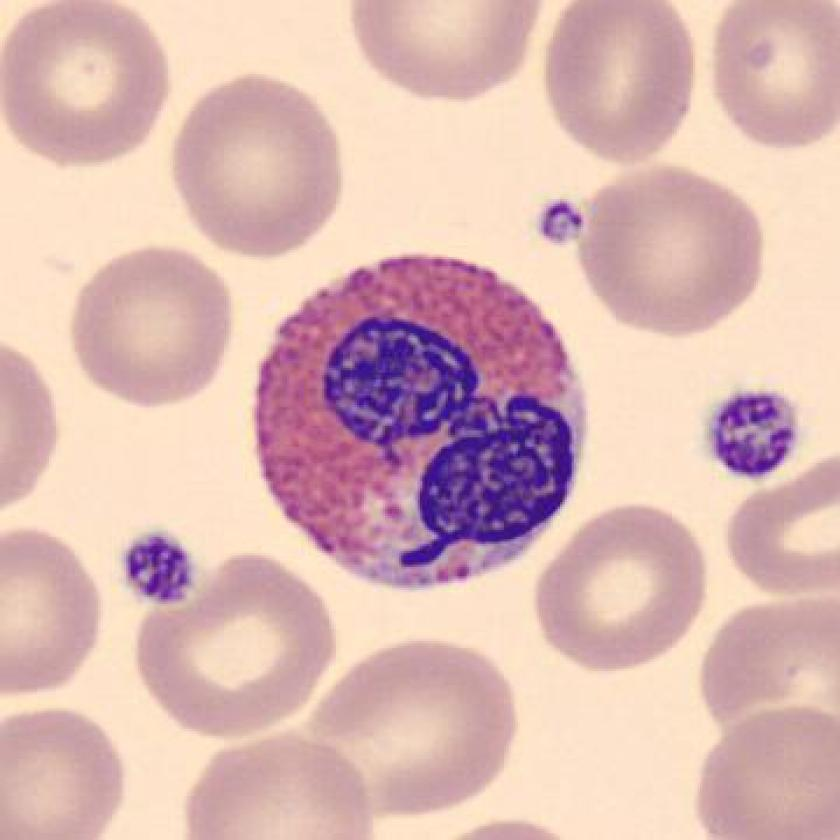eosinophil: (239, 239, 596, 603)
